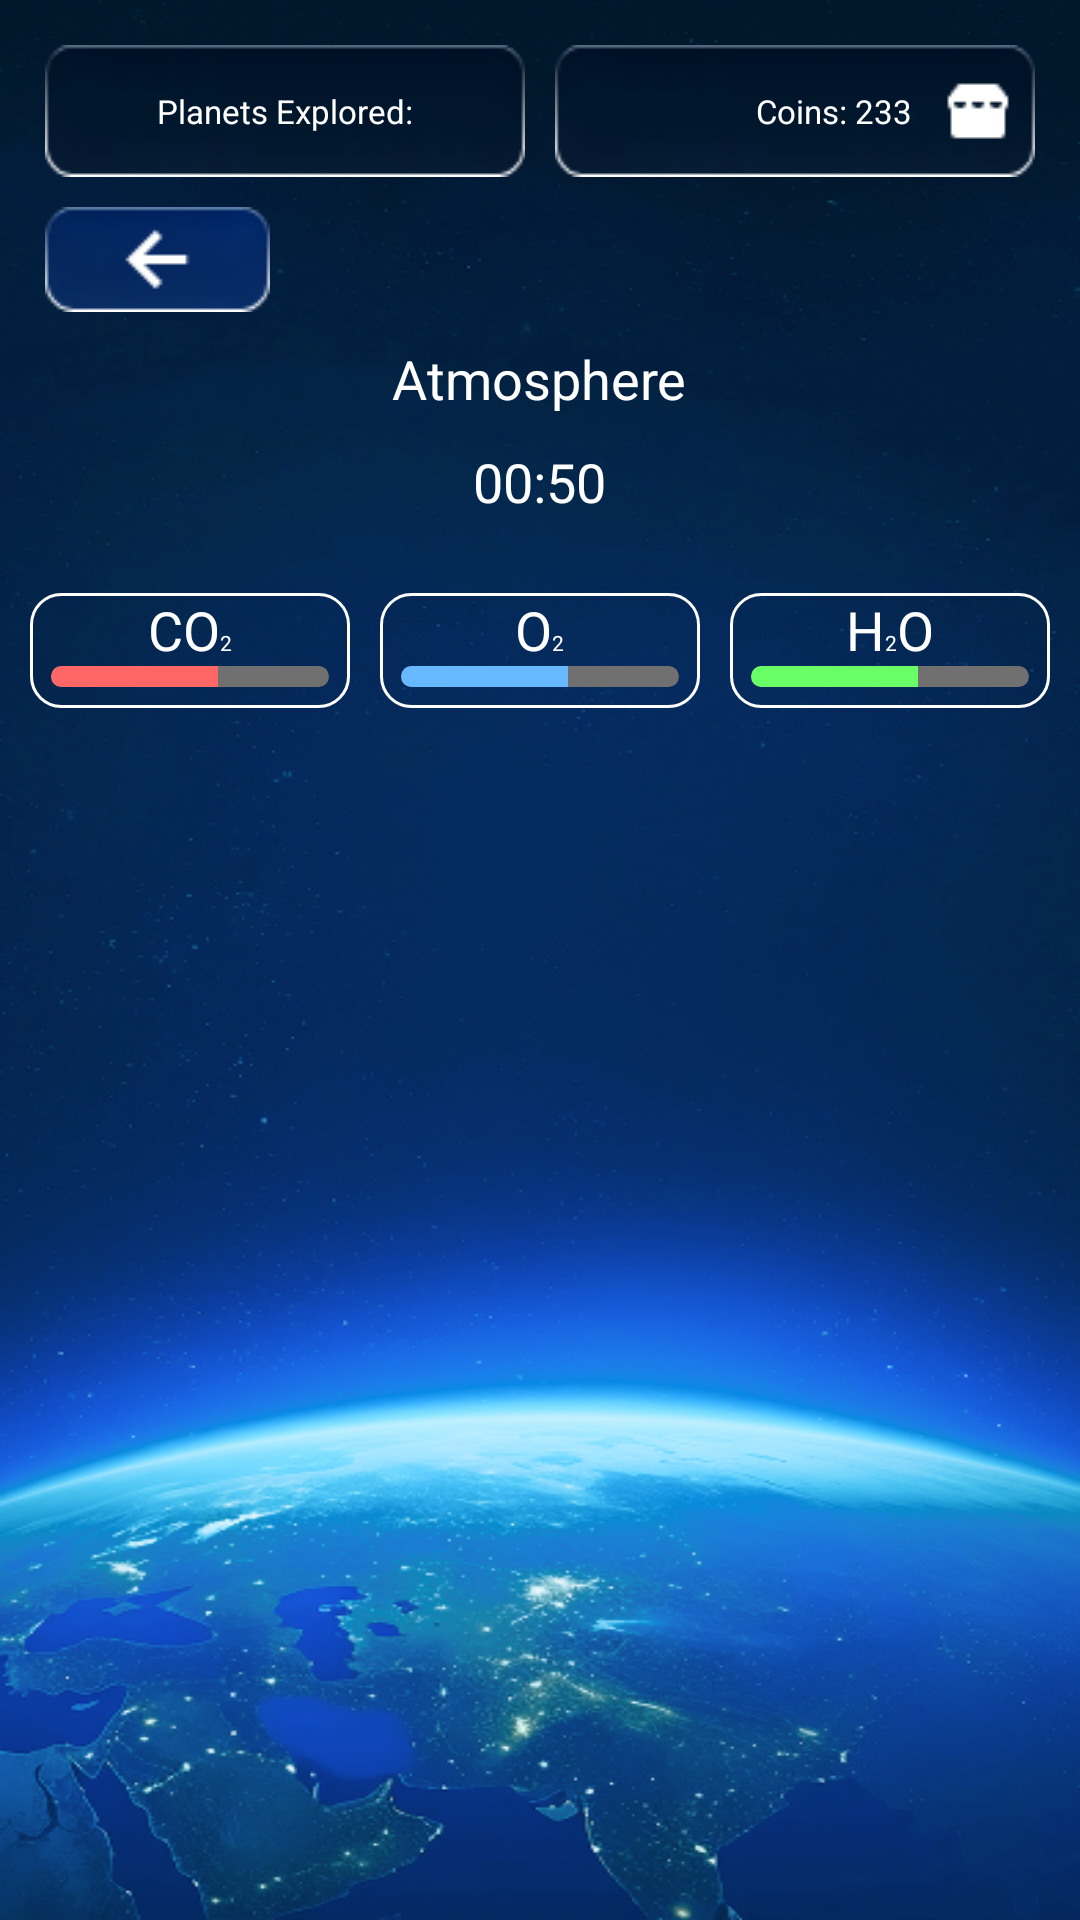

Point at icon controls on the screen. Image size 1080w x 1920h, points as point (x, y).
back: point (157, 259)
